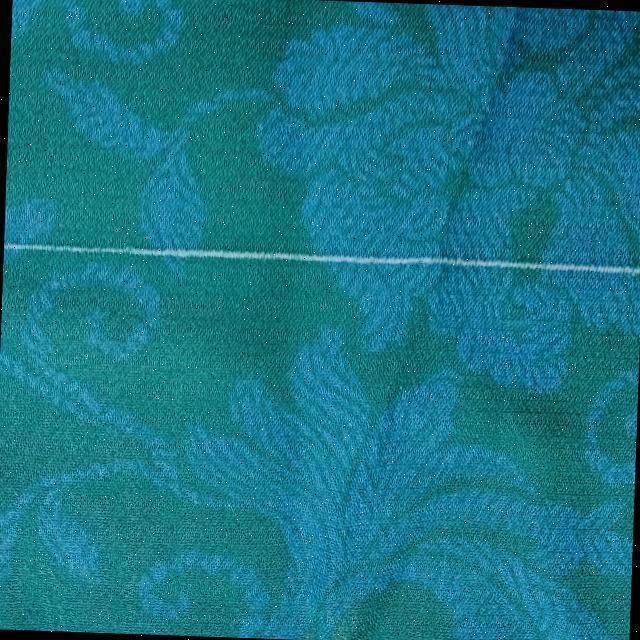pulled_or_thick_thread: (2, 242, 640, 278)
